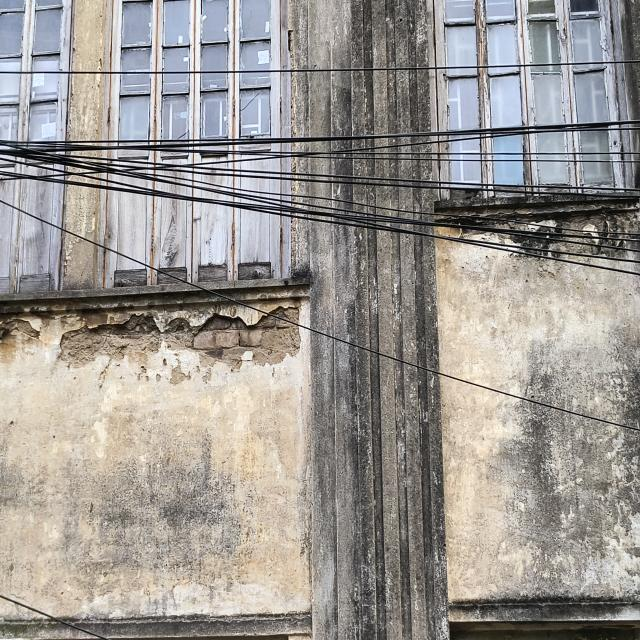Moss growth due to damping: (0, 0, 640, 640), (497, 325, 638, 592)
Spalling: (60, 307, 303, 369)
